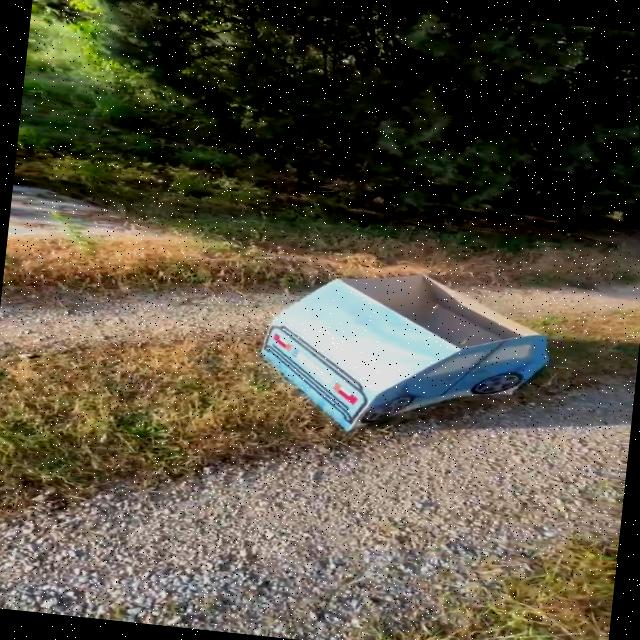blue_car: (219, 230, 568, 484)
